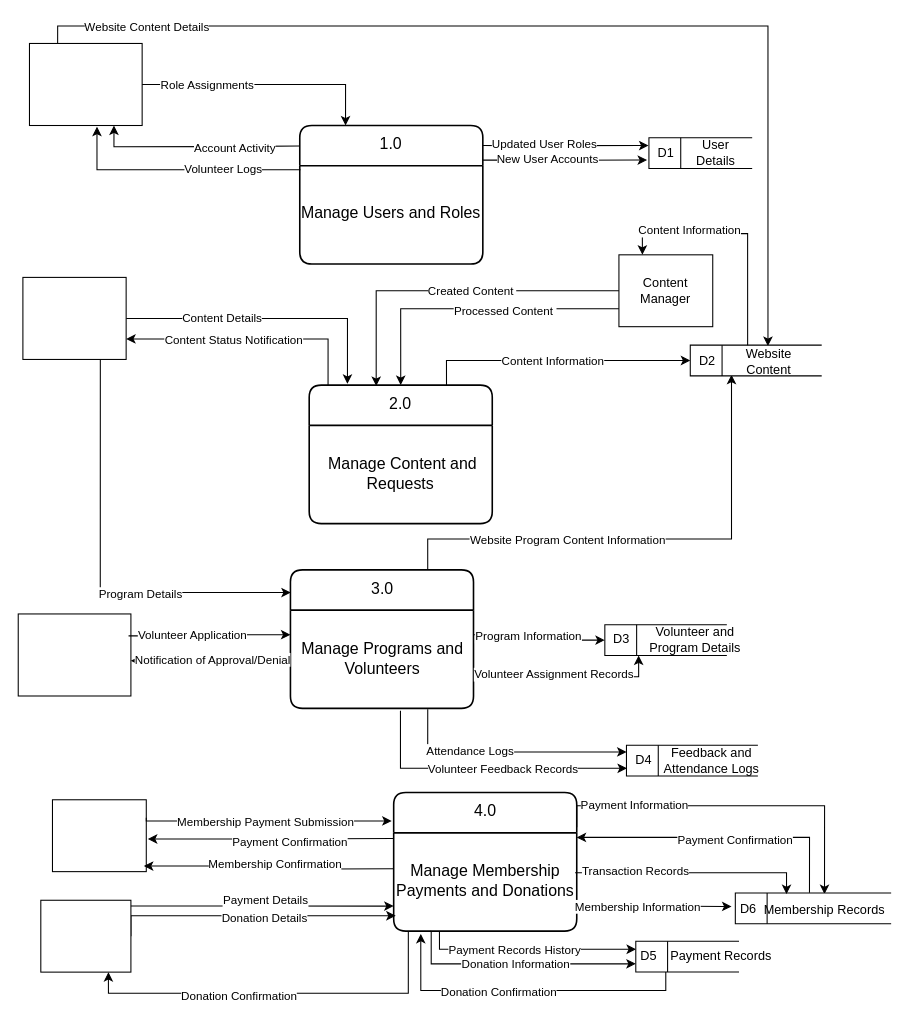
The diagram is 919 pixels wide and 1022 high, and some of its shapes have lost their labels. Each missing label, with the centre of its shape:
Administrator: point 85,84
Financial Coordinator: point 85,935
Member: point 98,835
Program Coordinator: point 74,317
Volunteer: point 74,654
